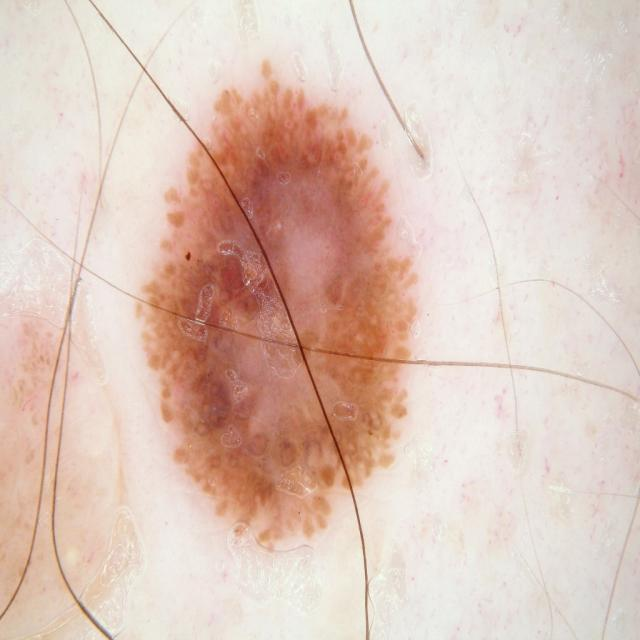Skin-Cancer Seborrheic keratosis: (108, 33, 529, 640)
